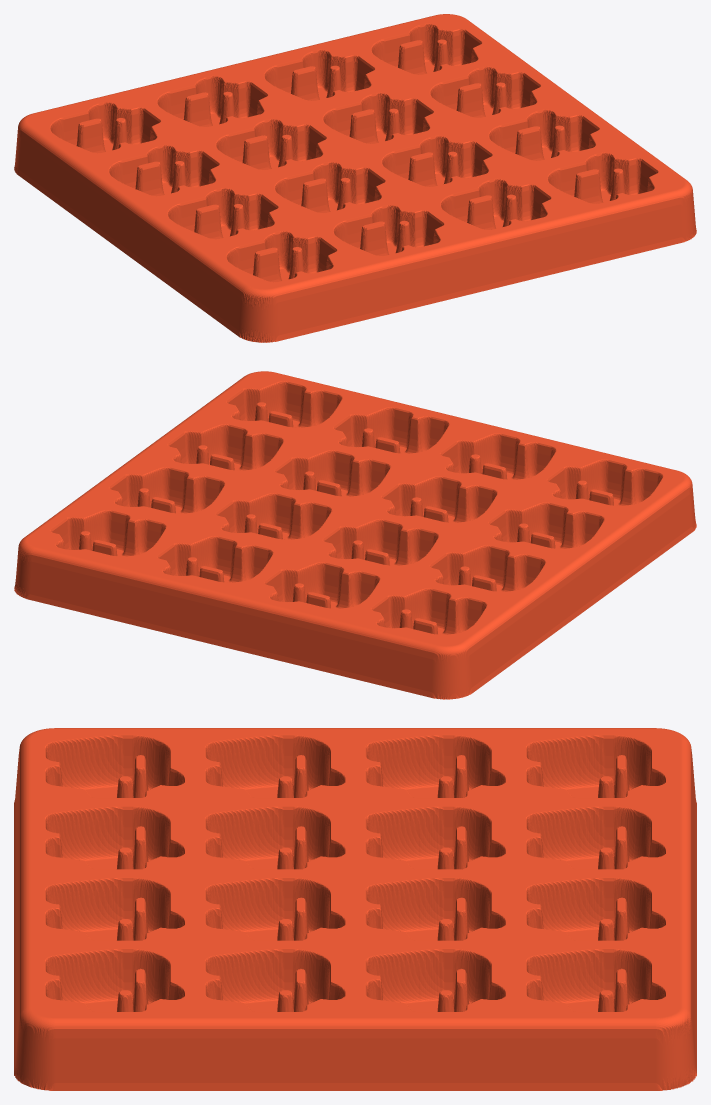
File: mold.glb
3 views of the same model, one above another, from view 1: azimuth 30°, elevation 25°; view 2: azimuth 150°, elevation 25°; view 3: azimuth 270°, elevation 25° (orthographic). The views are drawn at different scales.
Parts seen in each view (by area): view 1: geometry_0; view 2: geometry_0; view 3: geometry_0.
Boxes of the visible parts, x1=… form: geometry_0: x1=14, y1=14, x2=696, y2=342; geometry_0: x1=14, y1=371, x2=696, y2=699; geometry_0: x1=14, y1=728, x2=696, y2=1090.
Bounding box in the file's own units: 0.1569 × 0.0159 × 0.1496.
